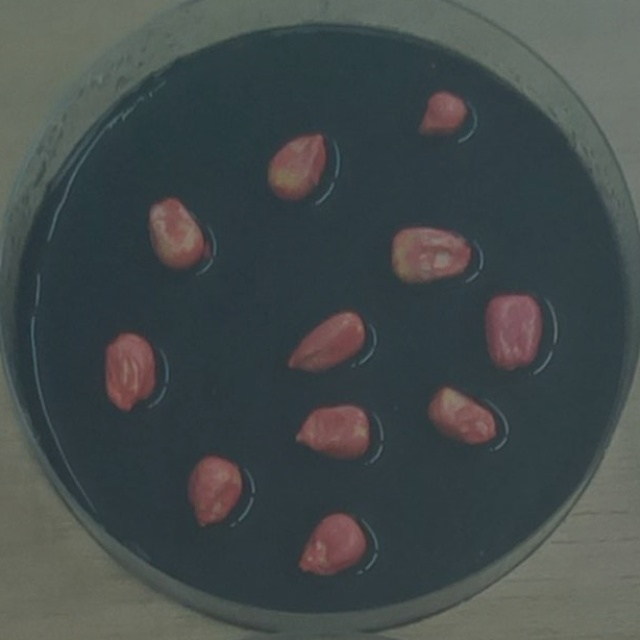Zea mays: (275, 301, 372, 382), (381, 218, 482, 293), (288, 507, 373, 586), (284, 398, 381, 467), (137, 191, 212, 278), (477, 286, 547, 379), (420, 381, 505, 456), (259, 127, 335, 210), (181, 449, 250, 539), (98, 326, 164, 419), (409, 84, 476, 146)
